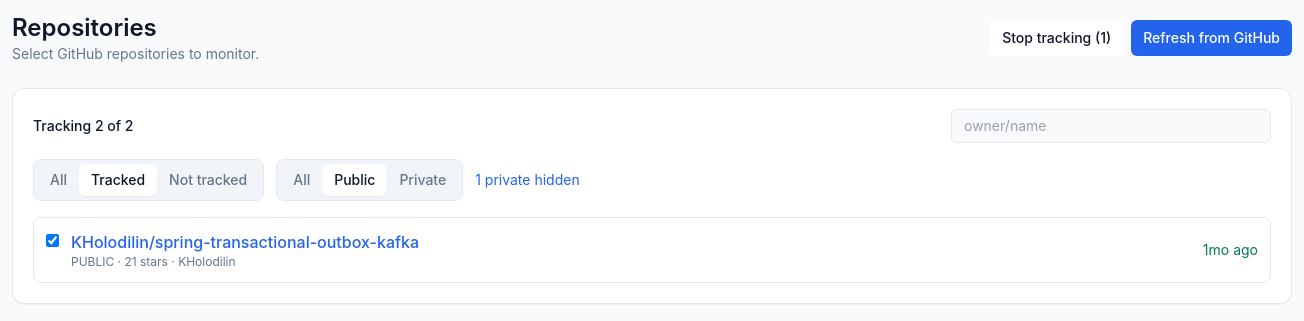
Test: repository filters › updates the row when the checkbox turns tracking off
Expected: the link "KHolodilin/spring-transactional-outbox-kafka" is shown, [71,230,419,254]
Click the checkbox: point(52, 240) [46,234,59,247]
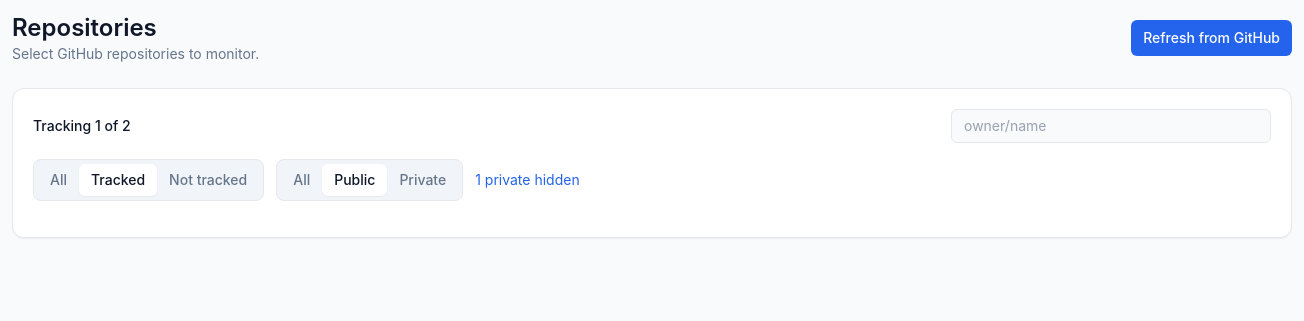
Now the text "Tracking 1 of 2" is shown, box [33,116,131,136]
